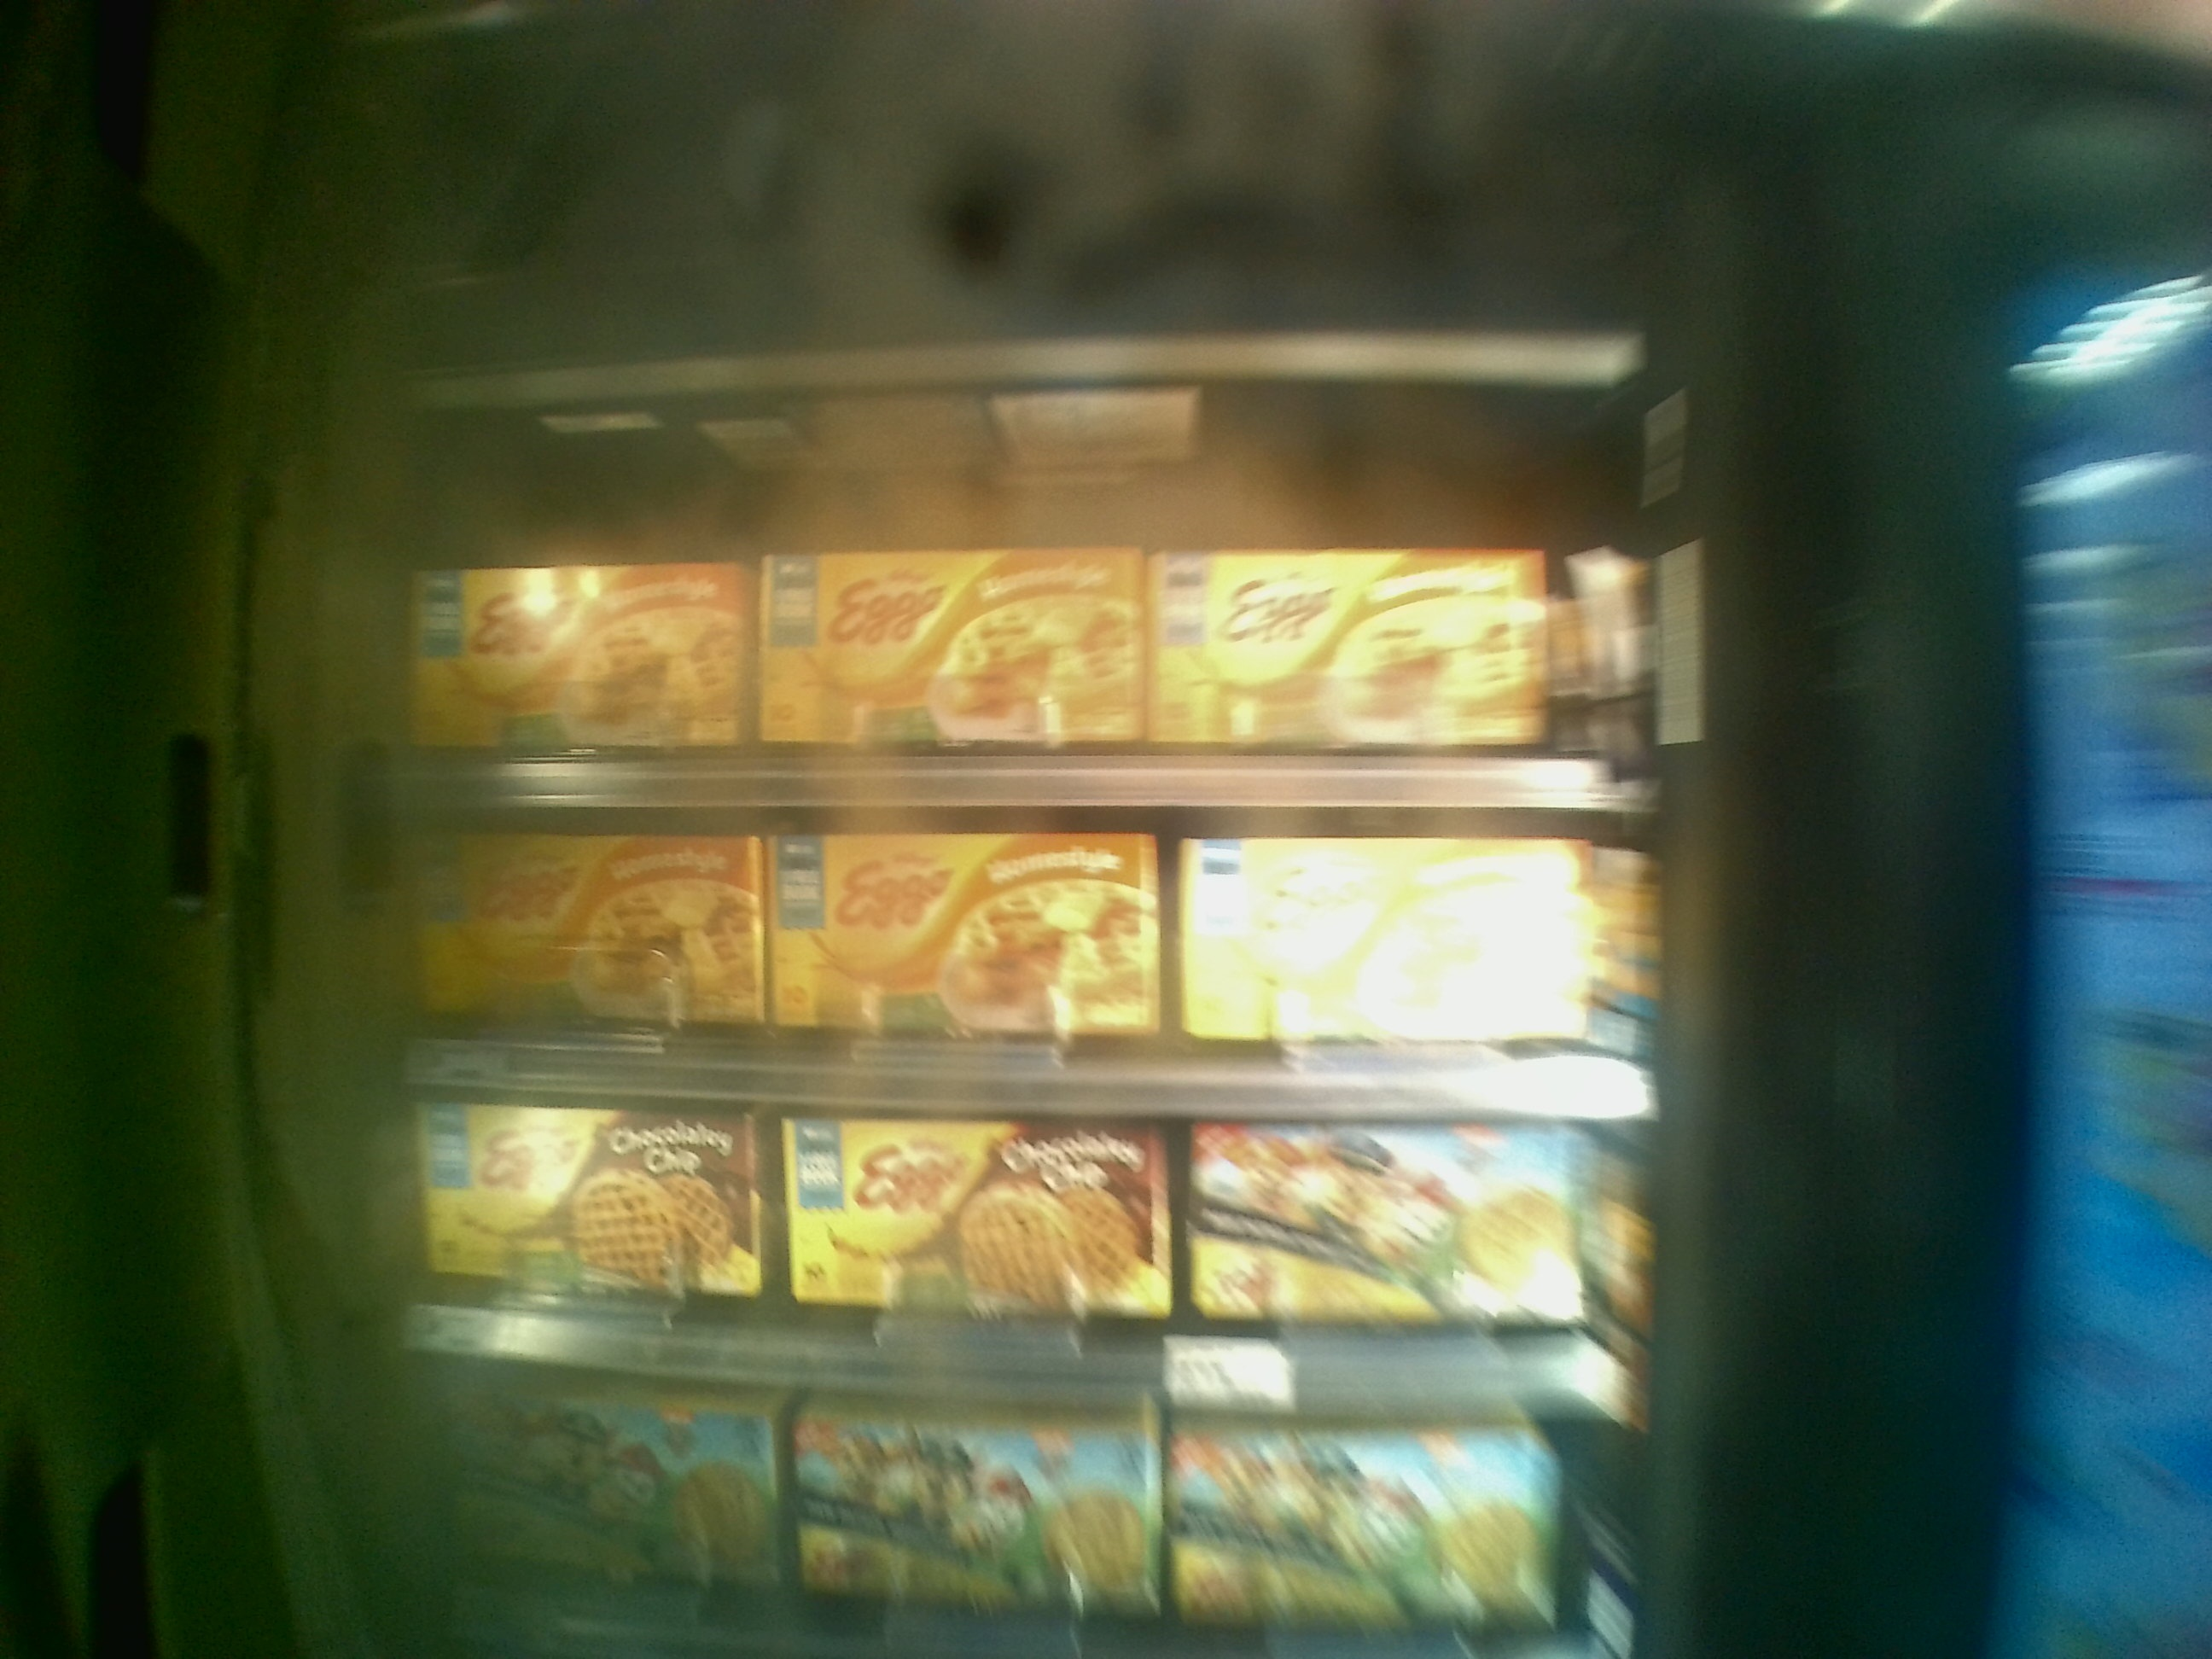shelf: (380, 472, 1623, 809), (404, 1086, 1656, 1410), (381, 807, 1672, 1114)
